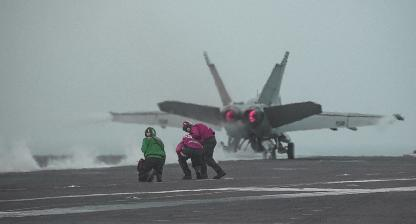F15: (109, 51, 405, 159)
